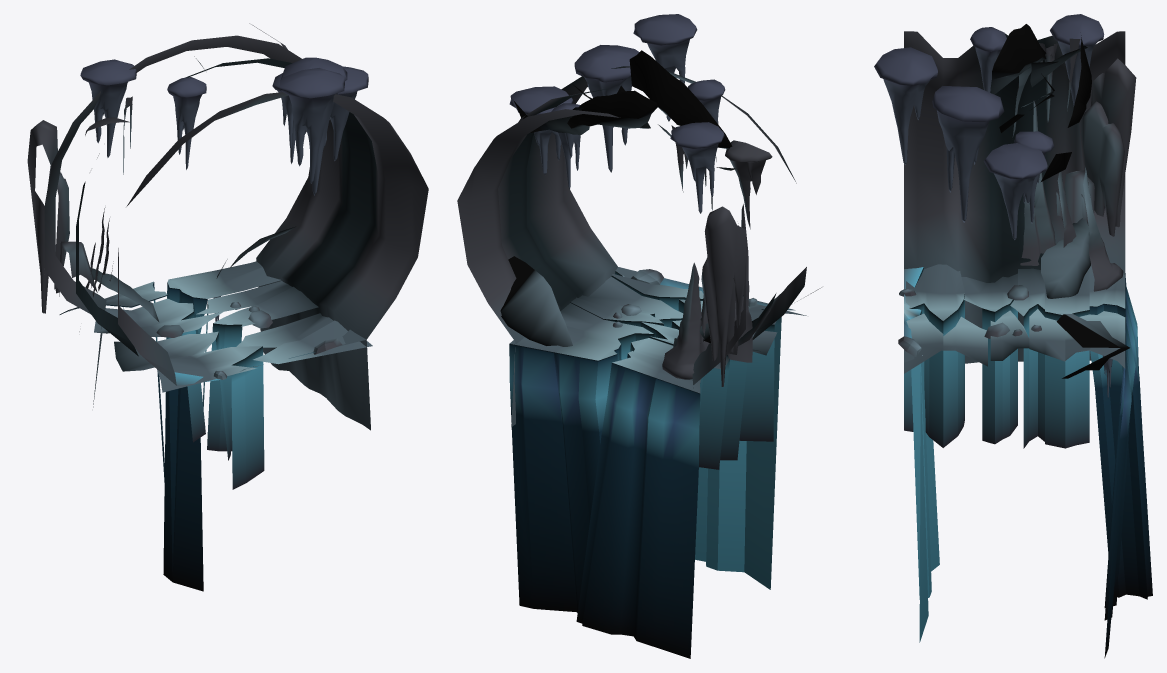
The model's file is Arctic_Tunnels_Straight_G.glb.
3 views of the same model, side by side, from view 1: azimuth 30°, elevation 25°; view 2: azimuth 150°, elevation 25°; view 3: azimuth 270°, elevation 25° (orthographic). The views are drawn at different scales.
Visible parts, largest first — view 1: Arctic_Tunnels_Straight_G, Arctic_Tunnels_Icicle_Shadow_A02 (4), Arctic_Tunnels_Icicle_Shadow_A02 (7), Arctic_Tunnels_Icicle_Shadow_A02 (3), Arctic_Tunnels_Icicle_Shadow_A02 (5), Arctic_Tunnels_Icicle_Shadow_A02 (2), Arctic_Tunnels_Icicle_Shadow_A02; view 2: Arctic_Tunnels_Straight_G, Arctic_Tunnels_Icicle_Shadow_A02 (2), Arctic_Tunnels_Icicle_Shadow_A02 (4), Arctic_Tunnels_Icicle_Shadow_A02 (7), Arctic_Tunnels_Icicle_Shadow_A02 (5), Arctic_Tunnels_Icicle_Shadow_A02 (3), Arctic_Tunnels_Icicle_Shadow_A02; view 3: Arctic_Tunnels_Straight_G, Arctic_Tunnels_Icicle_Shadow_A02 (2), Arctic_Tunnels_Icicle_Shadow_A02 (4), Arctic_Tunnels_Icicle_Shadow_A02 (5), Arctic_Tunnels_Icicle_Shadow_A02 (7), Arctic_Tunnels_Icicle_Shadow_A02 (3), Arctic_Tunnels_Icicle_Shadow_A02.
Boxes of the visible parts, x1,y1,x2,y2 form: Arctic_Tunnels_Straight_G: (27, 23, 428, 591); Arctic_Tunnels_Icicle_Shadow_A02 (4): (279, 68, 344, 183); Arctic_Tunnels_Icicle_Shadow_A02 (7): (80, 59, 136, 157); Arctic_Tunnels_Icicle_Shadow_A02 (3): (167, 77, 206, 169); Arctic_Tunnels_Icicle_Shadow_A02 (5): (323, 66, 368, 160); Arctic_Tunnels_Icicle_Shadow_A02 (2): (280, 57, 347, 195); Arctic_Tunnels_Icicle_Shadow_A02: (272, 73, 295, 163); Arctic_Tunnels_Straight_G: (457, 50, 821, 658); Arctic_Tunnels_Icicle_Shadow_A02 (2): (574, 45, 639, 172); Arctic_Tunnels_Icicle_Shadow_A02 (4): (633, 14, 697, 121); Arctic_Tunnels_Icicle_Shadow_A02 (7): (670, 122, 724, 213); Arctic_Tunnels_Icicle_Shadow_A02 (5): (509, 86, 573, 174); Arctic_Tunnels_Icicle_Shadow_A02 (3): (688, 79, 725, 123); Arctic_Tunnels_Icicle_Shadow_A02: (551, 103, 580, 189); Arctic_Tunnels_Straight_G: (898, 24, 1152, 658); Arctic_Tunnels_Icicle_Shadow_A02 (2): (932, 86, 1004, 222); Arctic_Tunnels_Icicle_Shadow_A02 (4): (874, 47, 937, 164); Arctic_Tunnels_Icicle_Shadow_A02 (5): (983, 143, 1047, 239); Arctic_Tunnels_Icicle_Shadow_A02 (7): (1050, 14, 1104, 106); Arctic_Tunnels_Icicle_Shadow_A02 (3): (970, 27, 1006, 92); Arctic_Tunnels_Icicle_Shadow_A02: (1014, 131, 1054, 223).
Bounding box in the file's own units: 8.99 × 16.31 × 7.05.
